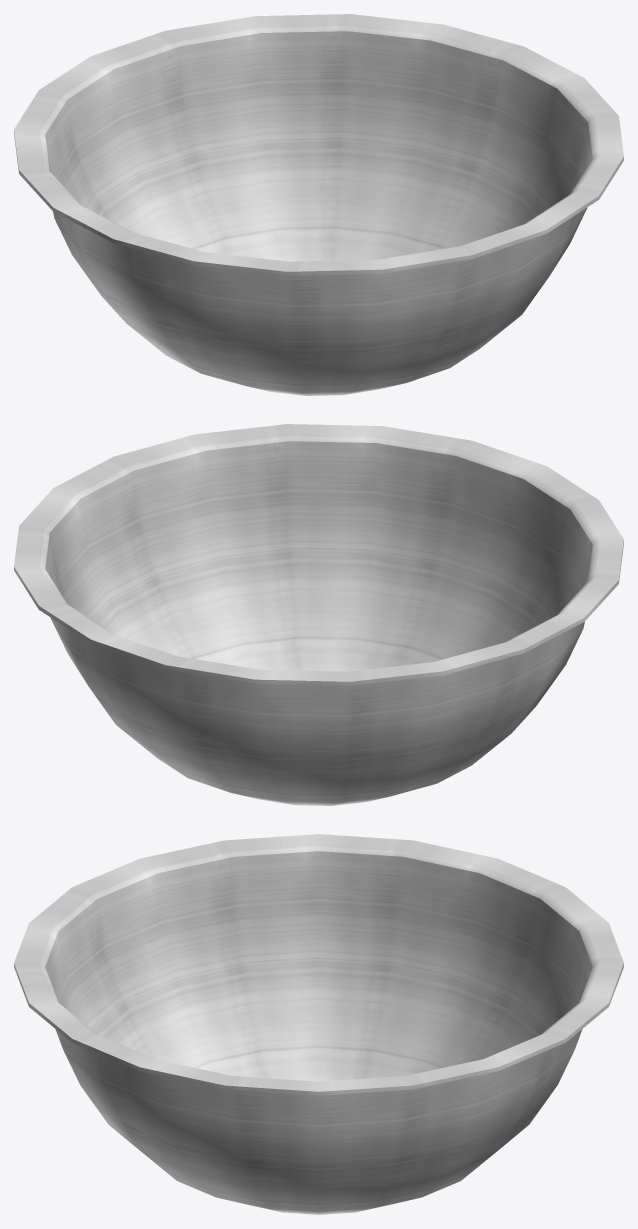
Rendered from bowl.fbx.
The picture shows the model from 3 angles, top to bottom: view 1: azimuth 30°, elevation 25°; view 2: azimuth 150°, elevation 25°; view 3: azimuth 270°, elevation 25°; orthographic projection.
Parts seen in each view (by area): view 1: bowl; view 2: bowl; view 3: bowl.
Boxes of the visible parts, bbox=[...] form: bowl: bbox=[14, 14, 623, 395]; bowl: bbox=[14, 424, 623, 805]; bowl: bbox=[14, 834, 623, 1214].
Bounding box in the file's own units: 14.23 × 5.51 × 14.23.
Materials: 1 (1 with a texture image).
